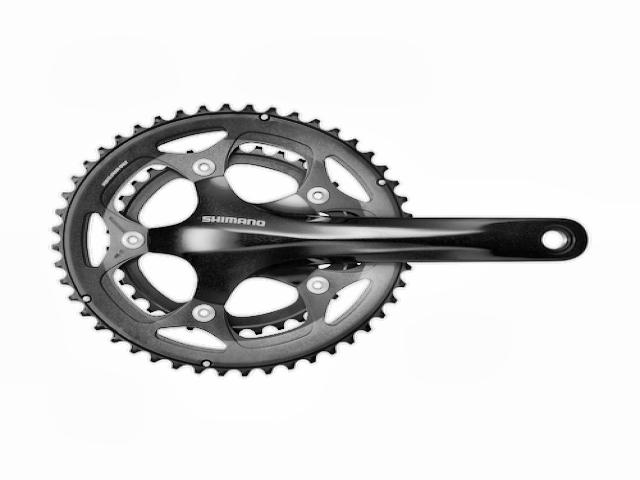cranks_set: (49, 101, 593, 377)
